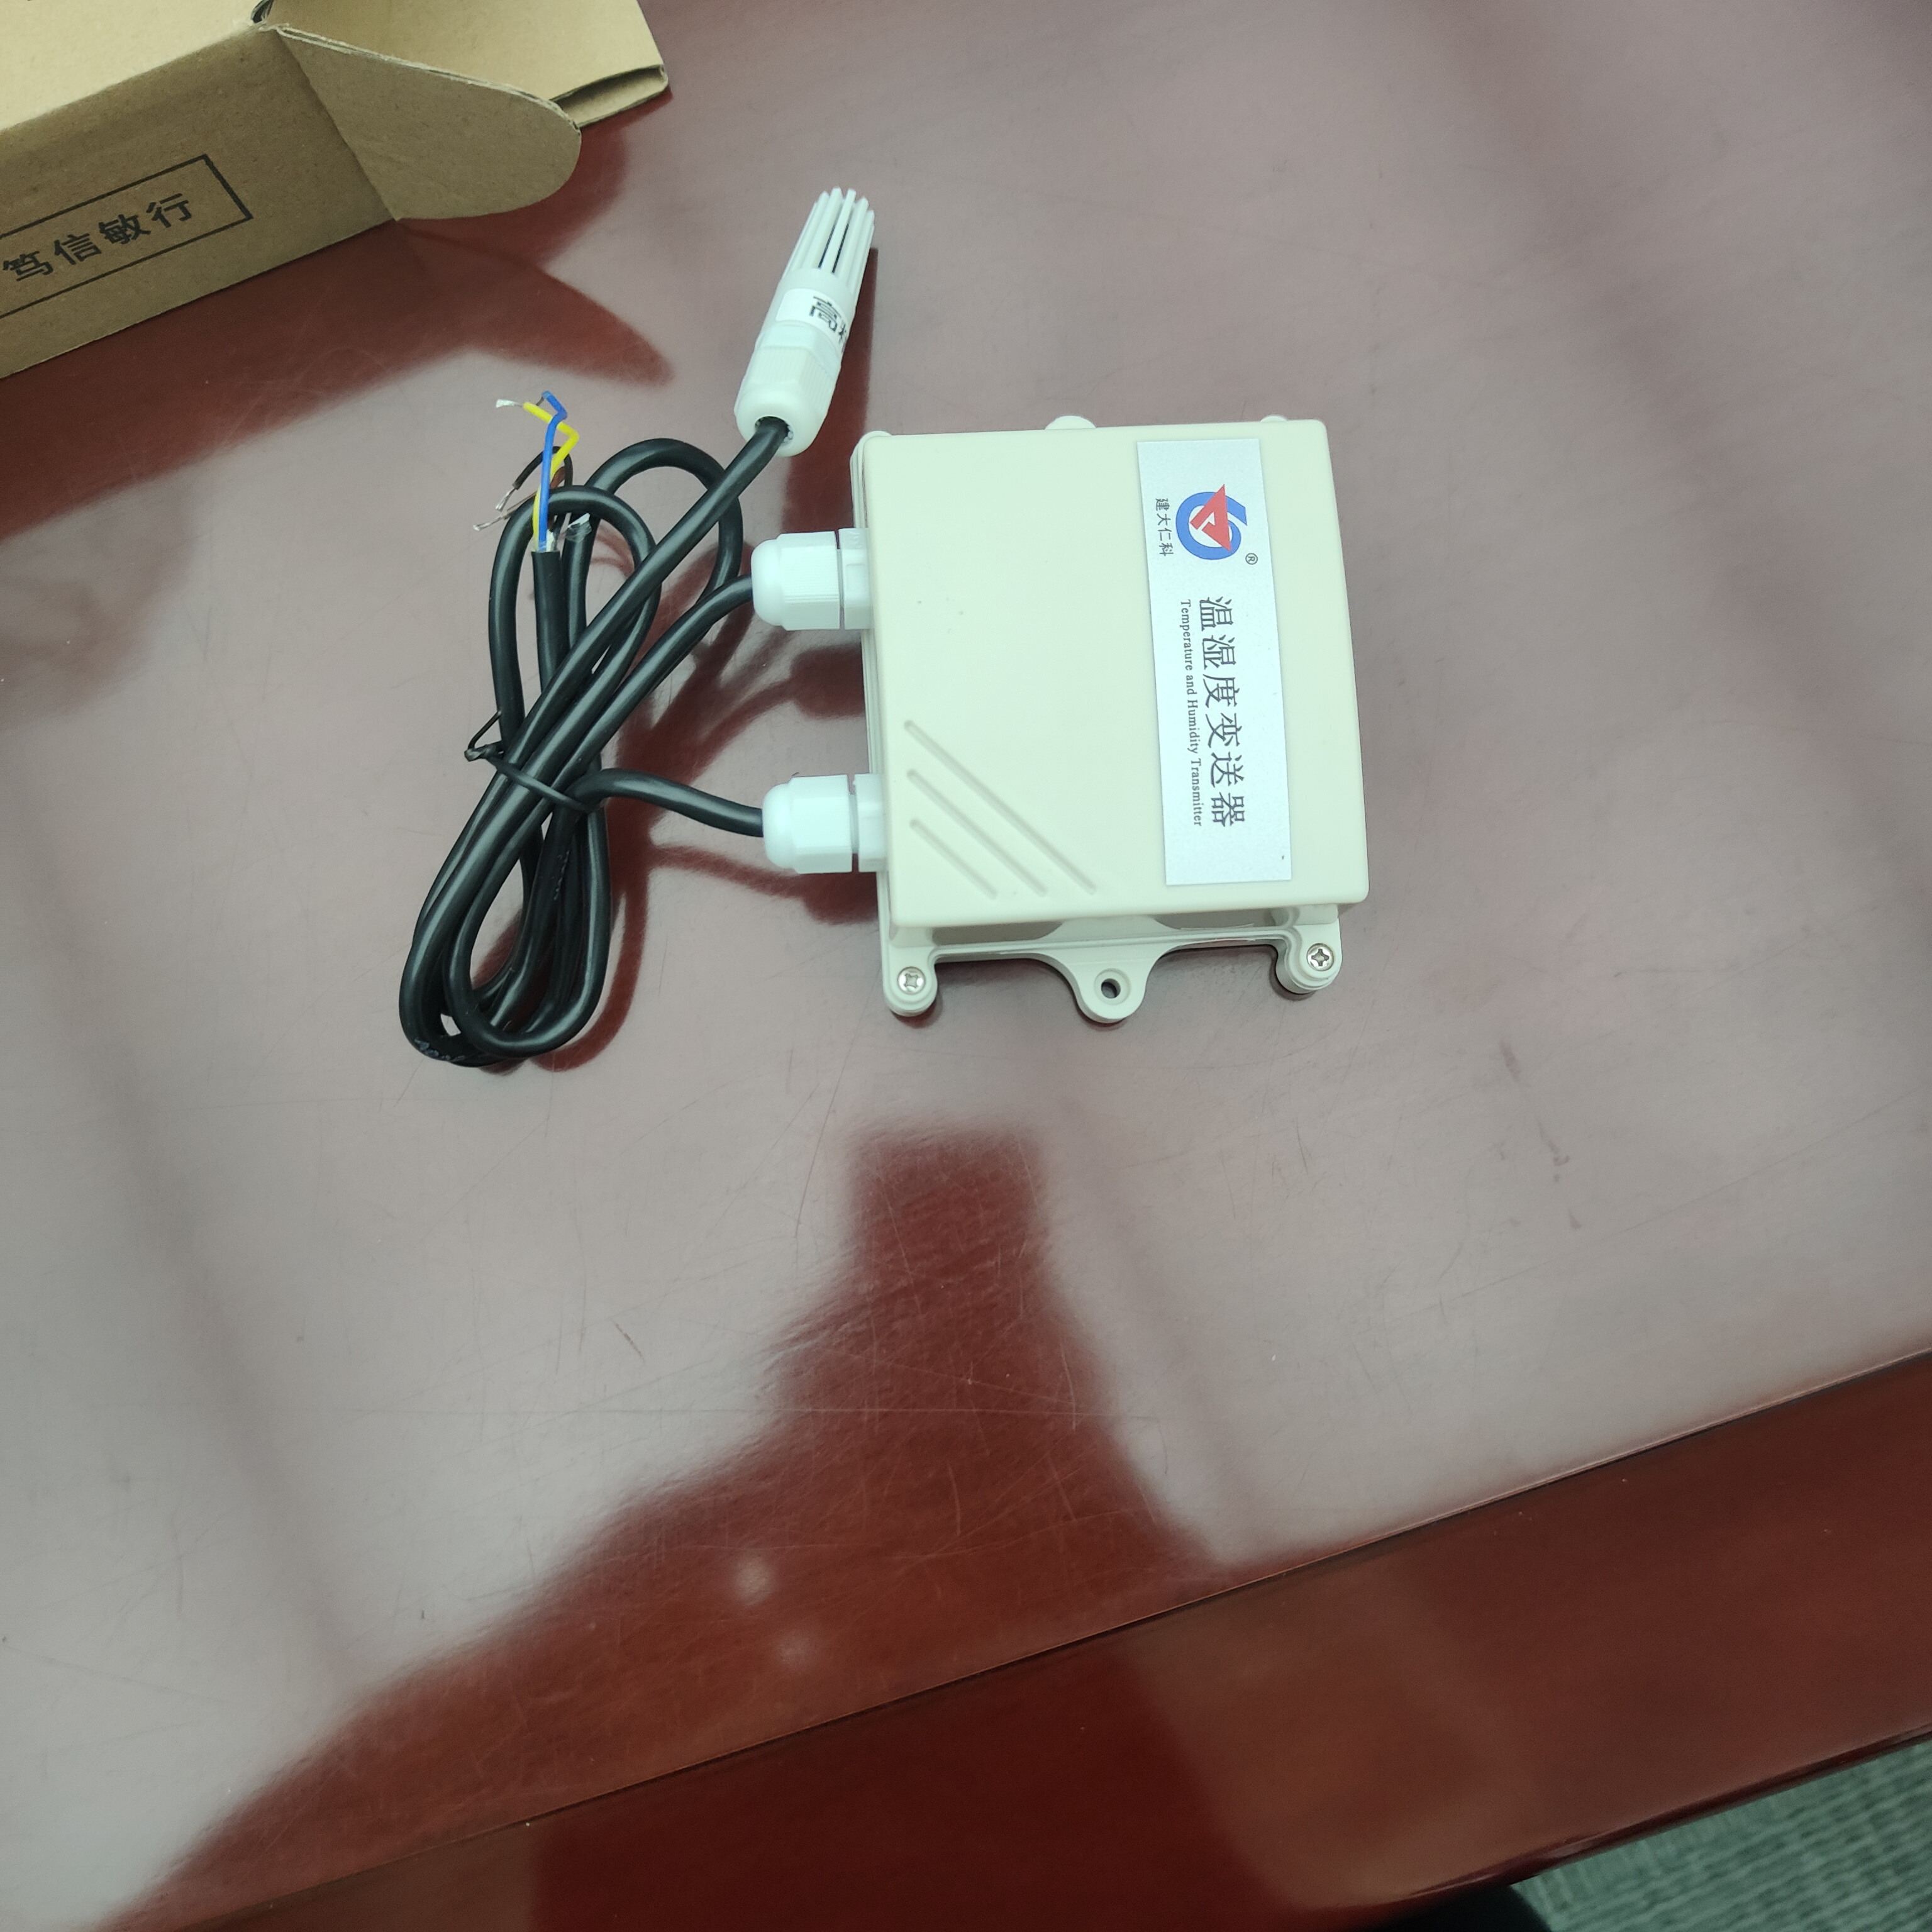wsdbsq: (826, 414, 1403, 1047)
